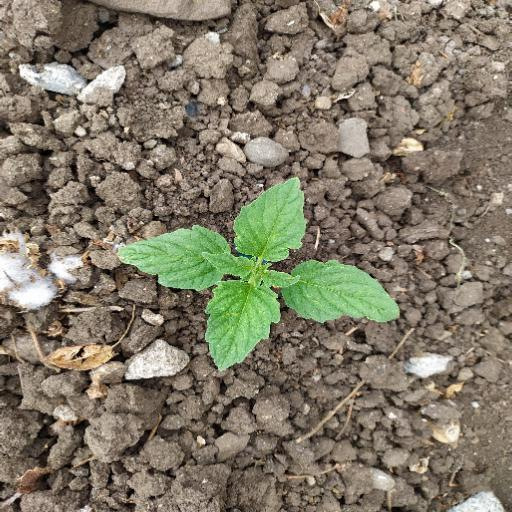crop: (87, 147, 431, 383)
